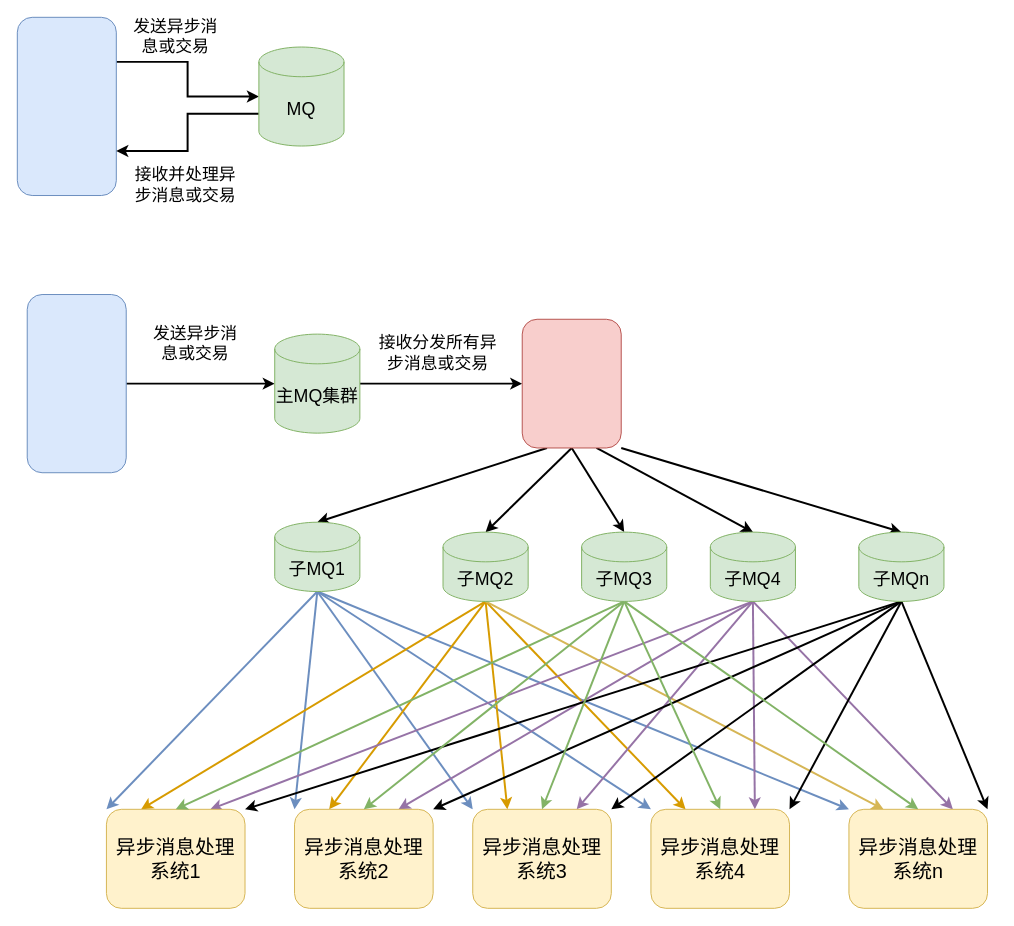
Image size: 1014x926. Some labels were removed from this diagram. Each missing label, with the centre of its shape:
"单一平台系统" belongs at pixel 66 106.
"多平台平台系统" belongs at pixel 76 383.
"消息中心" belongs at pixel 571 383.
